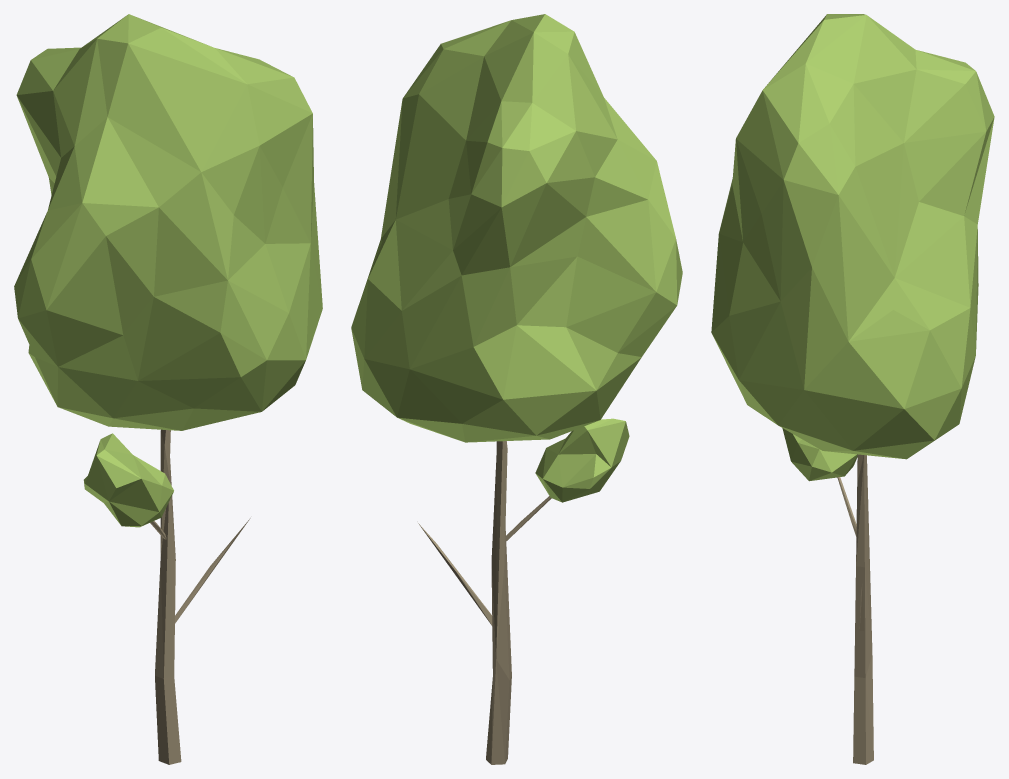
The model's file is TreePink_2.fbx.
3 renders of one model, left to right at view 1: azimuth 30°, elevation 25°; view 2: azimuth 150°, elevation 25°; view 3: azimuth 270°, elevation 25°, orthographic. The views are drawn at different scales.
Parts seen in each view (by area): view 1: Tree3_1; view 2: Tree3_1; view 3: Tree3_1.
Boxes of the visible parts, box(x1,y1,x2,y2) form: Tree3_1: box(14, 14, 322, 764); Tree3_1: box(351, 14, 682, 764); Tree3_1: box(711, 14, 994, 764).
Size of the model in its own units: 3.72 by 9.07 by 3.2.
